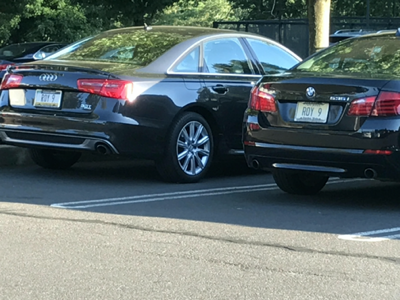licence: (297, 100, 327, 125)
